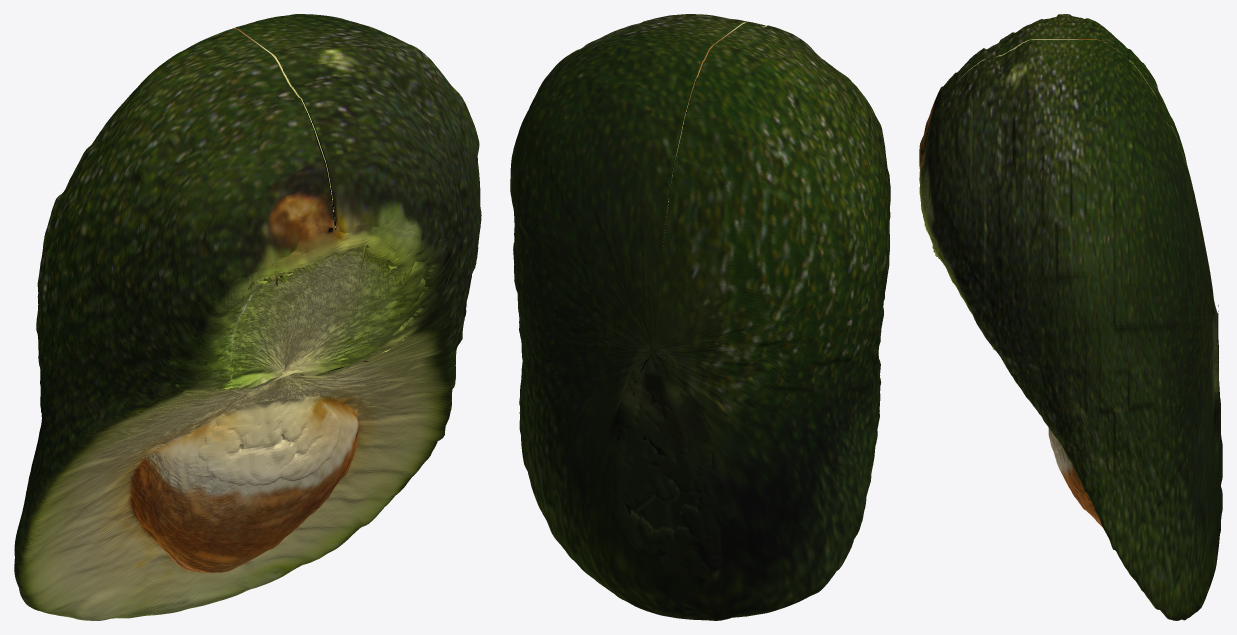
The model's file is mesh_inpaint.glb.
3 renders of one model, left to right at view 1: azimuth 30°, elevation 25°; view 2: azimuth 150°, elevation 25°; view 3: azimuth 270°, elevation 25°, orthographic. The views are drawn at different scales.
Visible parts, largest first — view 1: ipn, fill; view 2: ipn, fill; view 3: ipn, fill.
Part boxes in pixels (bbox=[...]): ipn: bbox=[14, 14, 481, 620]; fill: bbox=[170, 222, 449, 485]; ipn: bbox=[510, 14, 890, 620]; fill: bbox=[608, 343, 738, 580]; ipn: bbox=[920, 14, 1219, 620]; fill: bbox=[919, 134, 1222, 533].
Size of the model in its own units: 1.44 by 2 by 0.9919.
Materials: 2 (1 with a texture image).
